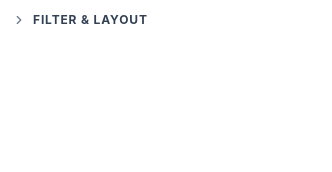
Test: PanelGroup › starts collapsed when requested and expands on toggle
This screenshot has width=332, height=172.
Expected: the text "Body content" is not shown
What coordinates should you click on to do the following:
click the button "Filter & Layout"
I would click on:
 (80, 20)
Its box is [12,12,148,29].
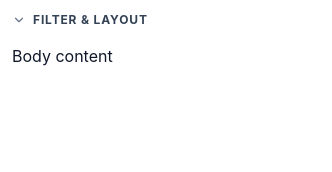
Expected: the text "Body content" is shown, [12,46,113,66]
